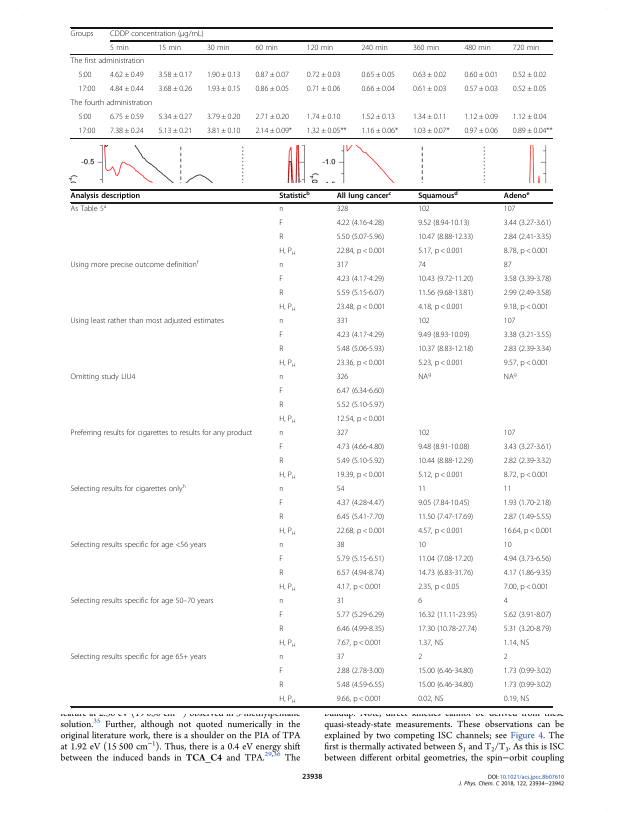borderless: (69, 188, 552, 706), (69, 26, 553, 138)
cell: (70, 429, 253, 439), (70, 317, 225, 327), (70, 259, 199, 271), (70, 597, 214, 607), (70, 483, 187, 495), (70, 541, 207, 551), (70, 653, 207, 663), (109, 30, 205, 39), (70, 98, 153, 108), (70, 56, 145, 66), (70, 373, 136, 383), (70, 192, 141, 201), (336, 190, 392, 201), (417, 611, 478, 621), (417, 625, 478, 635), (417, 233, 474, 243), (417, 275, 474, 285), (417, 289, 474, 299), (417, 345, 474, 355), (417, 457, 474, 467), (417, 513, 474, 523), (417, 555, 474, 565), (417, 569, 474, 579), (417, 667, 474, 677), (417, 681, 474, 691), (417, 219, 470, 229), (417, 331, 470, 341), (417, 443, 470, 453), (417, 499, 470, 509), (336, 247, 386, 257), (336, 303, 386, 313), (336, 359, 386, 369), (336, 415, 386, 425), (336, 471, 386, 481), (336, 527, 386, 537), (503, 527, 553, 537), (336, 219, 385, 229), (503, 219, 552, 229), (336, 233, 385, 243), (503, 233, 552, 243), (336, 275, 385, 285), (503, 275, 552, 285), (336, 289, 385, 299), (503, 289, 552, 299), (336, 331, 385, 341), (503, 331, 552, 341), (336, 345, 385, 355), (503, 345, 552, 355), (336, 387, 385, 397), (336, 401, 385, 411), (336, 443, 385, 453), (503, 443, 552, 453), (336, 457, 385, 467), (503, 457, 552, 467), (336, 499, 385, 509), (503, 499, 552, 509), (336, 513, 385, 523), (503, 513, 552, 523), (336, 555, 385, 565), (503, 555, 552, 565), (336, 569, 385, 579), (503, 569, 552, 579), (336, 611, 385, 621), (503, 611, 552, 621), (336, 625, 385, 635), (503, 625, 552, 635), (336, 667, 385, 677), (503, 667, 552, 677), (336, 681, 385, 691), (503, 681, 552, 691), (417, 247, 464, 257), (503, 247, 550, 257), (417, 303, 464, 313), (503, 303, 550, 313), (417, 359, 464, 369), (503, 359, 550, 369), (417, 471, 464, 481), (503, 471, 550, 481), (417, 527, 464, 537), (336, 583, 383, 593), (503, 583, 550, 593), (336, 639, 383, 649), (336, 695, 383, 705), (417, 190, 459, 201), (70, 203, 107, 215), (417, 583, 460, 593), (306, 126, 347, 136), (512, 126, 553, 136), (254, 126, 293, 136), (360, 126, 399, 136), (412, 126, 450, 136), (278, 190, 311, 201), (109, 70, 145, 80), (157, 70, 193, 80), (254, 70, 290, 80), (360, 70, 396, 80), (463, 70, 499, 80), (109, 84, 145, 94), (157, 84, 193, 94), (254, 84, 290, 94), (360, 84, 396, 94), (463, 84, 499, 94), (109, 112, 145, 122), (157, 112, 193, 122), (254, 112, 290, 122), (360, 112, 396, 122), (463, 112, 499, 122), (109, 126, 145, 136), (157, 126, 193, 136), (463, 126, 499, 136), (206, 70, 241, 80), (306, 70, 341, 80), (412, 70, 447, 80), (512, 70, 547, 80), (206, 84, 241, 94), (306, 84, 341, 94), (412, 84, 447, 94), (512, 84, 547, 94), (206, 112, 241, 122), (306, 112, 341, 122), (412, 112, 447, 122), (512, 112, 547, 122), (206, 126, 241, 136), (503, 190, 530, 201), (417, 639, 444, 649), (503, 639, 530, 649), (417, 695, 444, 705), (503, 695, 530, 705), (360, 43, 389, 52), (463, 43, 492, 52), (306, 43, 334, 52), (412, 43, 440, 52), (512, 43, 540, 52), (157, 43, 182, 52), (254, 43, 279, 52), (70, 30, 94, 39), (206, 43, 230, 52), (278, 247, 297, 257), (278, 303, 297, 313), (278, 359, 297, 369), (278, 415, 297, 425), (278, 471, 297, 481), (278, 527, 297, 537), (278, 583, 297, 593), (278, 639, 297, 649), (278, 695, 297, 705), (77, 84, 96, 94), (77, 126, 96, 136), (109, 43, 130, 52), (417, 371, 432, 383), (503, 371, 518, 383), (77, 70, 92, 80), (77, 112, 92, 122), (417, 205, 431, 215), (417, 317, 431, 327), (417, 429, 431, 439), (336, 205, 349, 215), (503, 205, 516, 215), (336, 261, 349, 271), (336, 317, 349, 327), (503, 317, 516, 327), (336, 373, 349, 383), (336, 429, 349, 439), (503, 429, 516, 439), (417, 261, 427, 271), (417, 485, 427, 495), (417, 541, 427, 551), (503, 261, 512, 271), (336, 485, 345, 495), (503, 485, 512, 495), (336, 541, 345, 551), (503, 541, 512, 551), (336, 597, 345, 607), (336, 653, 345, 663), (278, 205, 284, 215), (278, 219, 284, 229), (278, 233, 284, 243), (278, 261, 284, 271), (278, 275, 284, 285), (278, 289, 284, 299), (278, 317, 284, 327), (278, 331, 284, 341), (278, 345, 284, 355), (278, 373, 284, 383), (278, 387, 284, 397), (278, 401, 284, 411), (278, 429, 284, 439), (278, 443, 284, 453), (278, 457, 284, 467), (278, 485, 284, 495), (278, 499, 284, 509), (278, 513, 284, 523), (278, 541, 284, 551), (278, 555, 284, 565), (278, 569, 284, 579), (278, 597, 284, 607), (417, 597, 423, 607), (503, 597, 509, 607), (278, 611, 284, 621), (278, 625, 284, 635), (278, 653, 284, 663), (417, 653, 423, 663), (503, 653, 509, 663), (278, 667, 284, 677), (278, 681, 284, 691)
